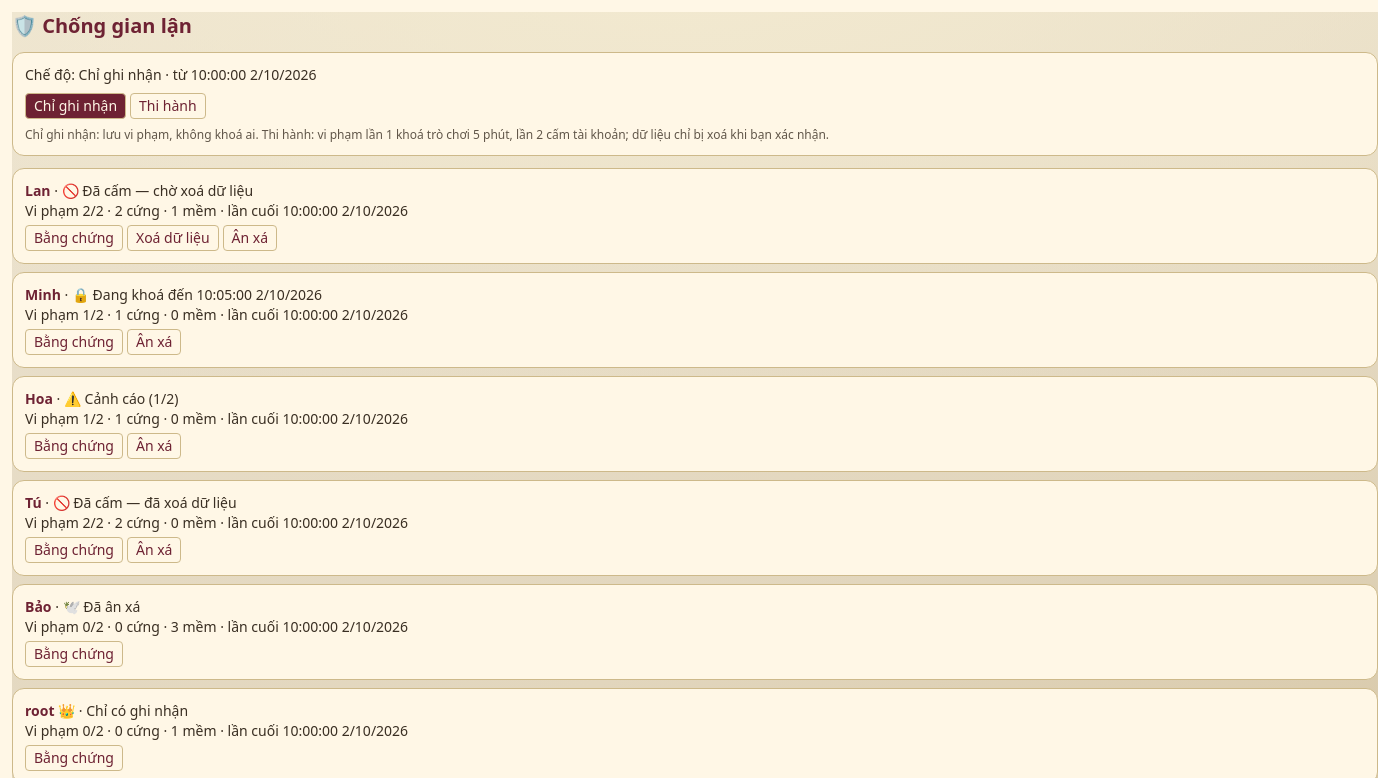
AnticheatTab (anti-cheat spec §12.5) › says the action went through when only the reload after it fails, and keeps a refusal's reason
Click the button "Ân xá" below "Hoa": [154, 446] box [127,433,181,459]
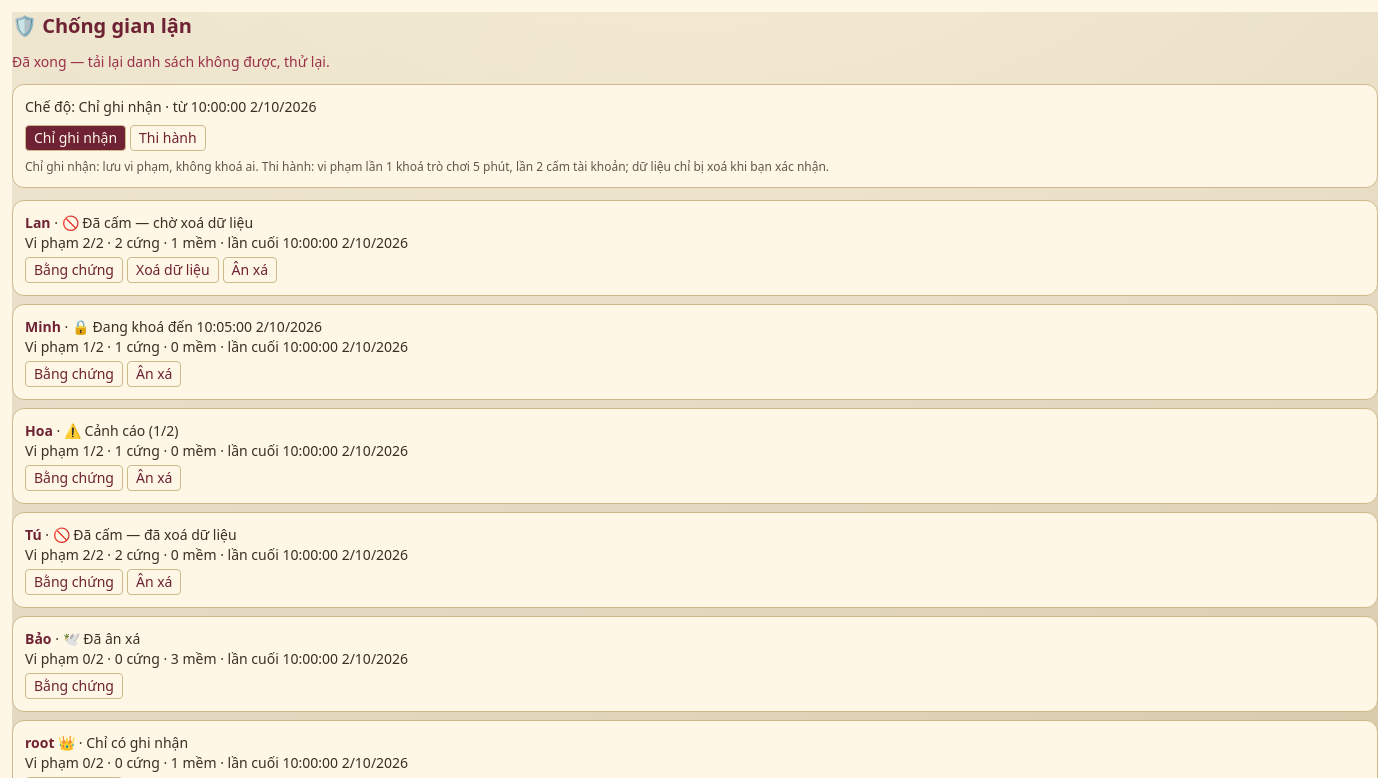
expect the message reads "Đã xong — tải lại danh sách không được, thử lại.": met, box [12,52,330,71]
Click the button "Ân xá" below "Hoa": [154, 478] box [127,465,181,491]
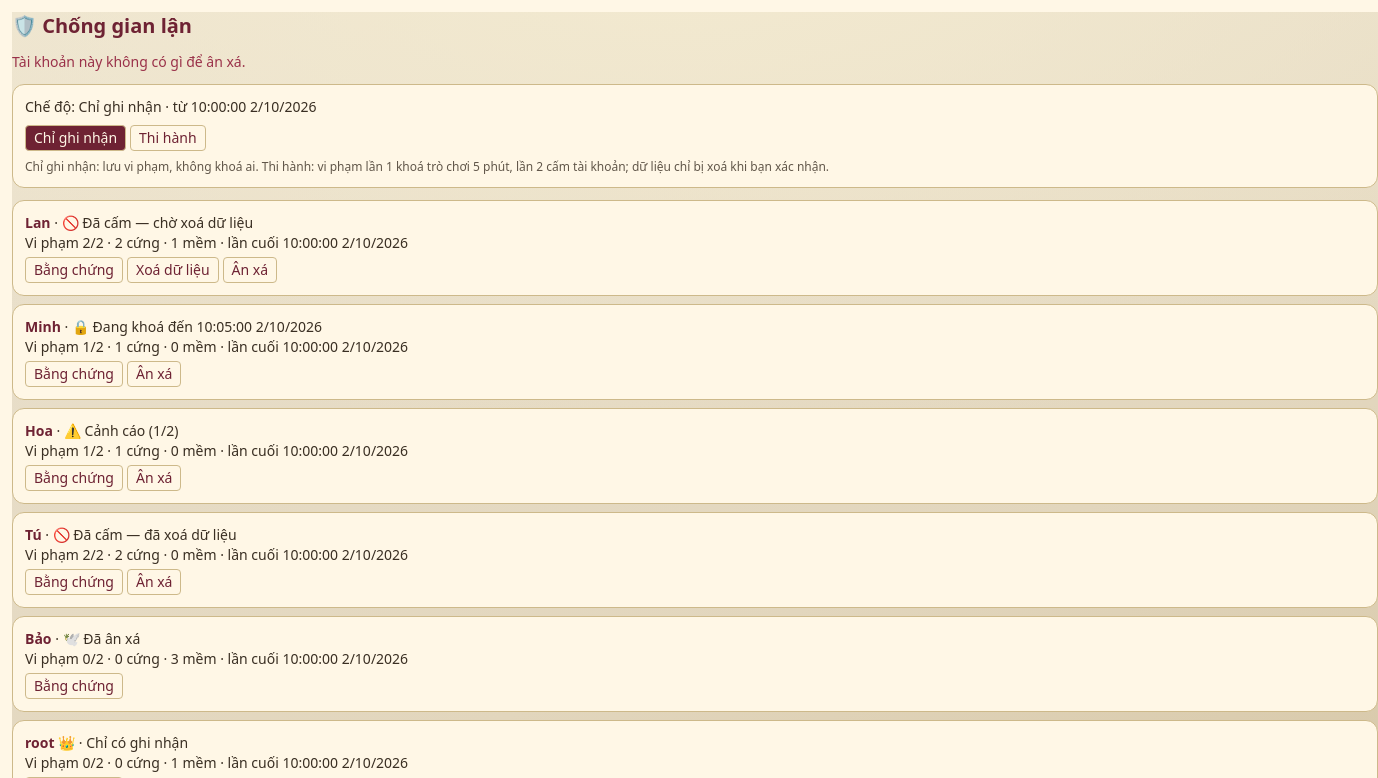
expect the message reads "Tài khoản này không có gì để ân xá.": met, box [12,52,246,71]
